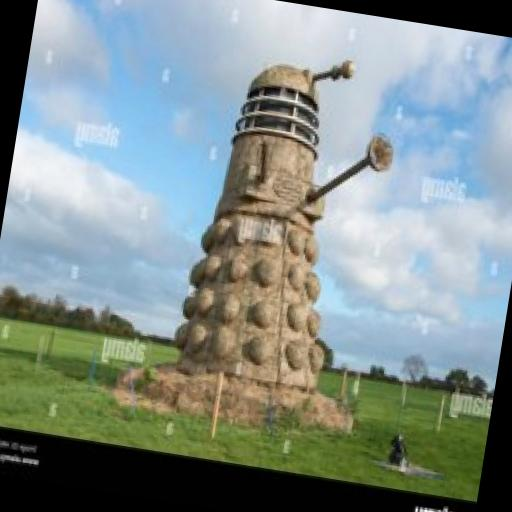dalek: (156, 38, 422, 416)
